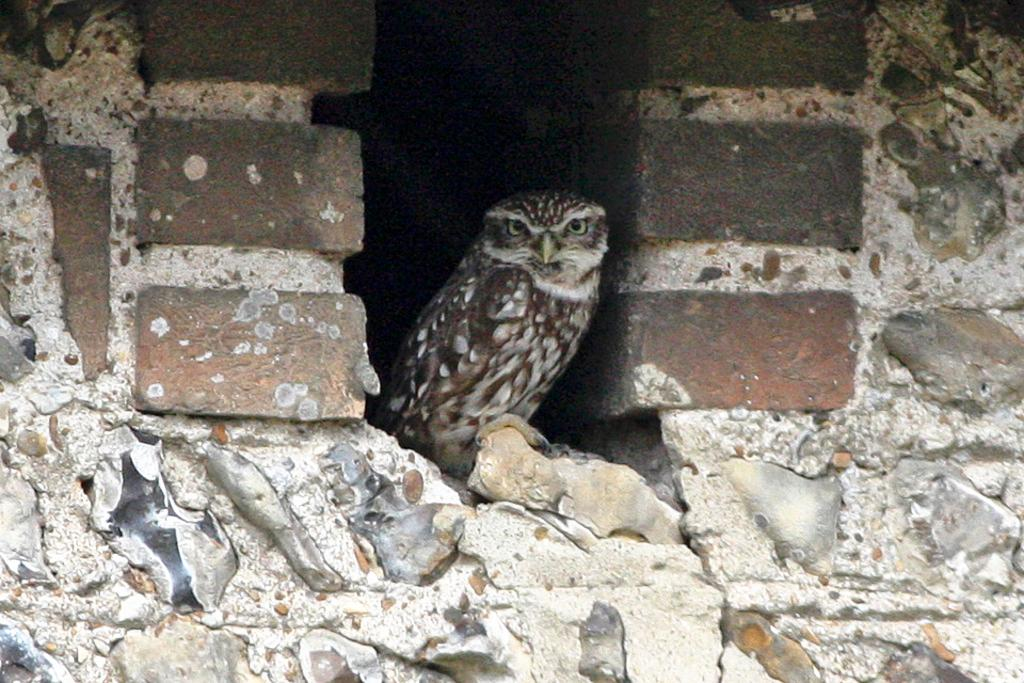Owl: (382, 188, 614, 478)
